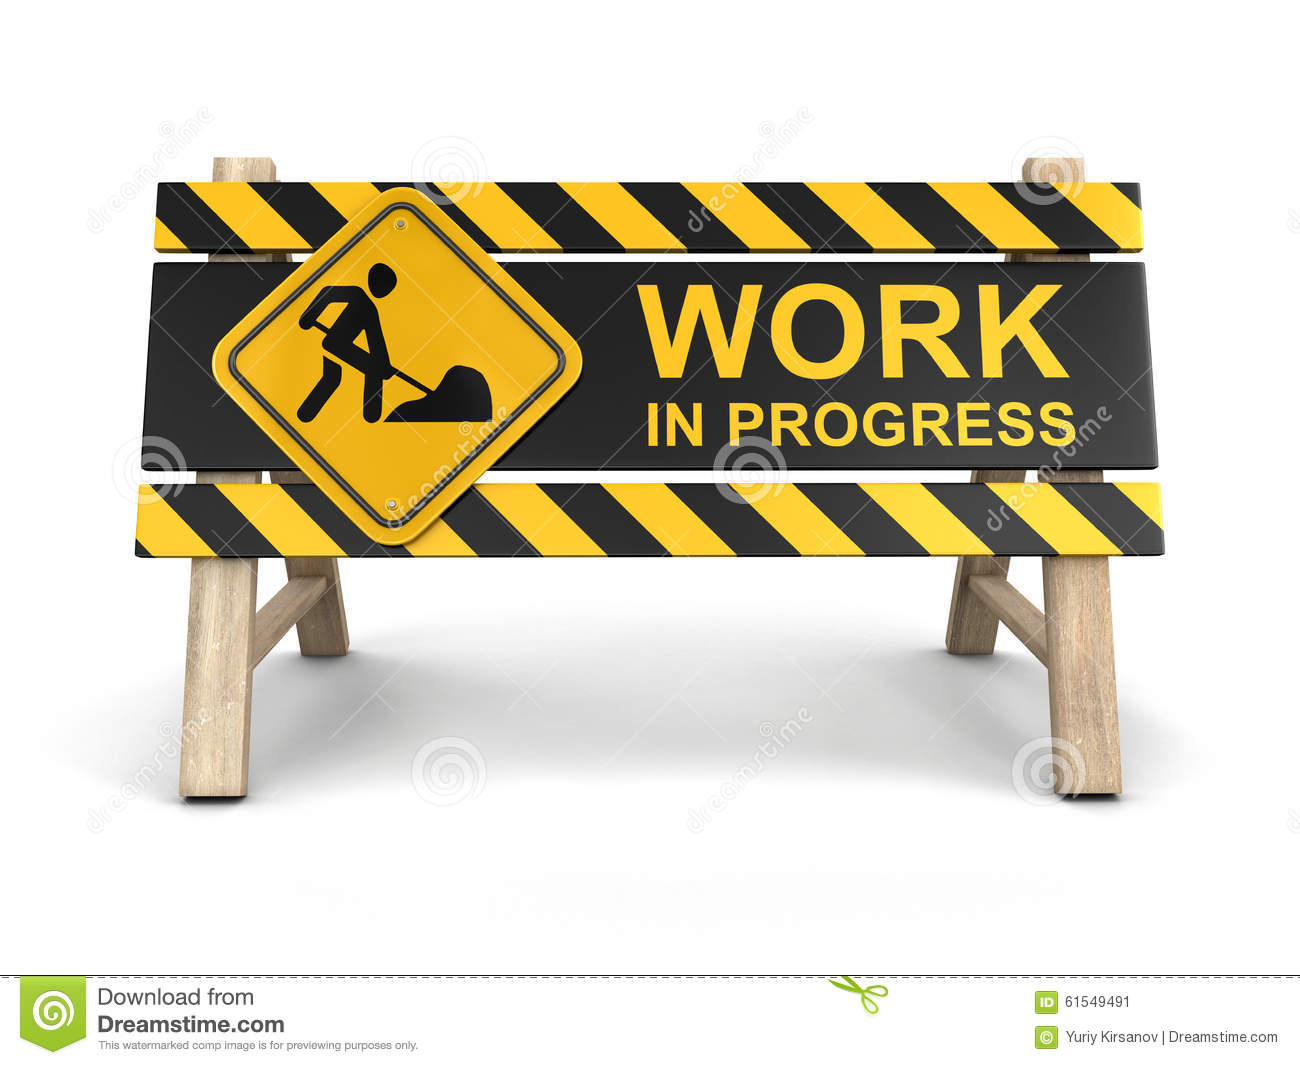caution: (208, 187, 581, 545)
